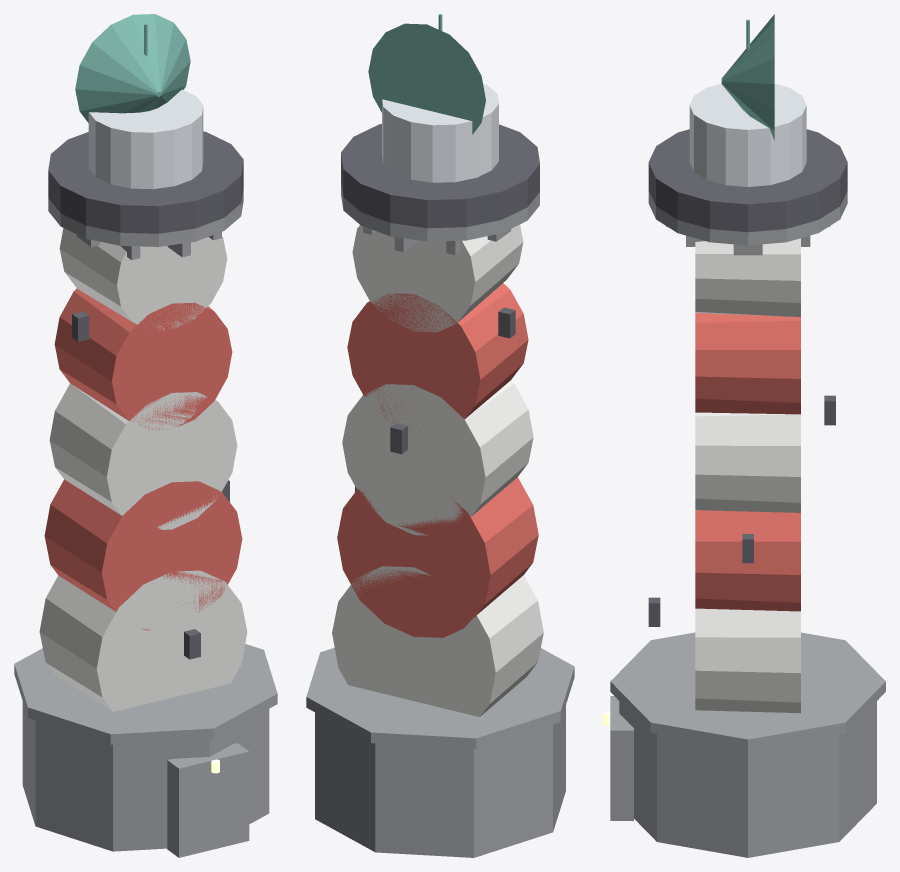
Rendered from landmark_seaview_lighthouse.glb.
3 renders of one model, left to right at view 1: azimuth 30°, elevation 25°; view 2: azimuth 150°, elevation 25°; view 3: azimuth 270°, elevation 25°, orthographic.
Parts seen in each view (by area): view 1: Tower_Band_0, Stone_Base, Tower_Band_1, Tower_Band_2, Tower_Band_3, Base_Cornice, Gallery_Railing, Tower_Band_4, Lighthouse_Dome, Lantern_Glass_Room, Portal_Frame, Gallery_Floor; view 2: Stone_Base, Tower_Band_2, Tower_Band_1, Tower_Band_0, Tower_Band_3, Base_Cornice, Gallery_Railing, Tower_Band_4, Lighthouse_Dome, Lantern_Glass_Room, Gallery_Floor; view 3: Stone_Base, Base_Cornice, Gallery_Railing, Tower_Band_0, Tower_Band_3, Tower_Band_2, Tower_Band_1, Lantern_Glass_Room, Tower_Band_4, Lighthouse_Dome, Gallery_Floor, Portal_Frame.
Boxes of the visible parts, x1,y1,x2,y2 form: Tower_Band_0: (39, 570, 247, 711); Stone_Base: (22, 701, 269, 851); Tower_Band_1: (44, 479, 242, 630); Tower_Band_2: (49, 383, 237, 529); Tower_Band_3: (54, 288, 232, 430); Base_Cornice: (14, 644, 277, 744); Gallery_Railing: (48, 131, 243, 233); Tower_Band_4: (59, 228, 227, 330); Lighthouse_Dome: (75, 14, 190, 122); Lantern_Glass_Room: (88, 89, 203, 189); Portal_Frame: (167, 743, 249, 857); Gallery_Floor: (48, 189, 243, 246); Stone_Base: (315, 706, 565, 857); Tower_Band_2: (342, 380, 533, 535); Tower_Band_1: (337, 477, 538, 637); Tower_Band_0: (332, 566, 543, 716); Tower_Band_3: (347, 283, 528, 431); Base_Cornice: (306, 647, 574, 748); Gallery_Railing: (341, 124, 539, 228); Tower_Band_4: (352, 224, 523, 332); Lighthouse_Dome: (368, 23, 485, 134); Lantern_Glass_Room: (382, 83, 498, 182); Gallery_Floor: (341, 183, 539, 241); Stone_Base: (619, 701, 876, 857); Base_Cornice: (610, 632, 885, 749); Gallery_Railing: (648, 129, 847, 232); Tower_Band_0: (695, 608, 800, 713); Tower_Band_3: (695, 313, 800, 414); Tower_Band_2: (695, 412, 800, 512); Tower_Band_1: (695, 510, 800, 611); Lantern_Glass_Room: (689, 83, 806, 186); Tower_Band_4: (695, 238, 800, 316); Lighthouse_Dome: (721, 14, 774, 140); Gallery_Floor: (648, 191, 847, 245); Portal_Frame: (610, 696, 633, 820).
Bounding box in the file's own units: 9.4 × 29.5 × 9.65.
